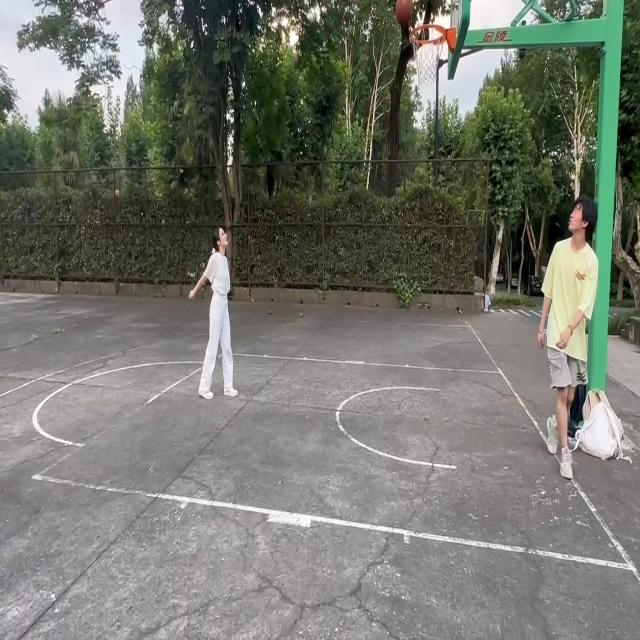basketball: (407, 23, 448, 84)
rim: (395, 0, 414, 26)
